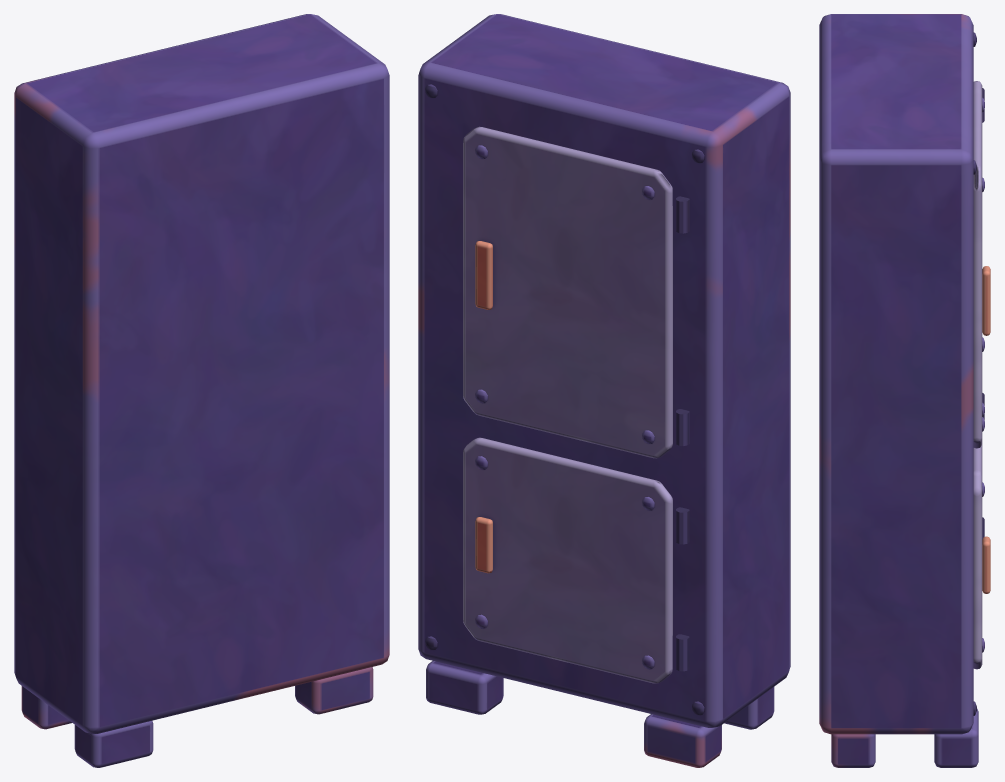
The model's file is bg_claude_a02.glb.
The picture shows the model from 3 angles, left to right: view 1: azimuth 30°, elevation 25°; view 2: azimuth 150°, elevation 25°; view 3: azimuth 270°, elevation 25°; orthographic projection. The views are drawn at different scales.
Parts seen in each view (by area): view 1: body; view 2: body, door_upper, door_lower; view 3: body, door_upper, door_lower.
Boxes of the visible parts, bbox=[...] form: body: bbox=[14, 14, 389, 767]; body: bbox=[418, 14, 790, 767]; door_upper: bbox=[463, 126, 689, 458]; door_lower: bbox=[463, 437, 689, 683]; body: bbox=[819, 14, 978, 767]; door_upper: bbox=[973, 81, 990, 448]; door_lower: bbox=[973, 393, 990, 669].
Bounding box in the file's own units: 1 × 2 × 0.5.
1 material, 1 textured.
